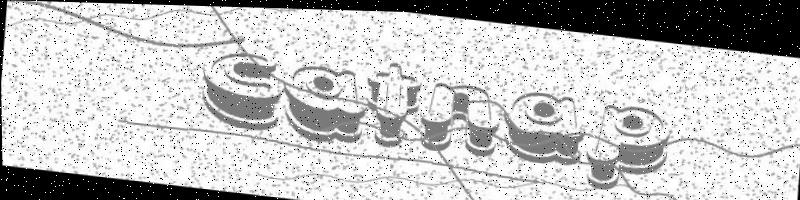a: (279, 58, 370, 146), (500, 84, 587, 166)
c: (197, 44, 286, 133)
n: (417, 76, 504, 156)
p: (581, 94, 674, 195)
t: (362, 56, 425, 149)
